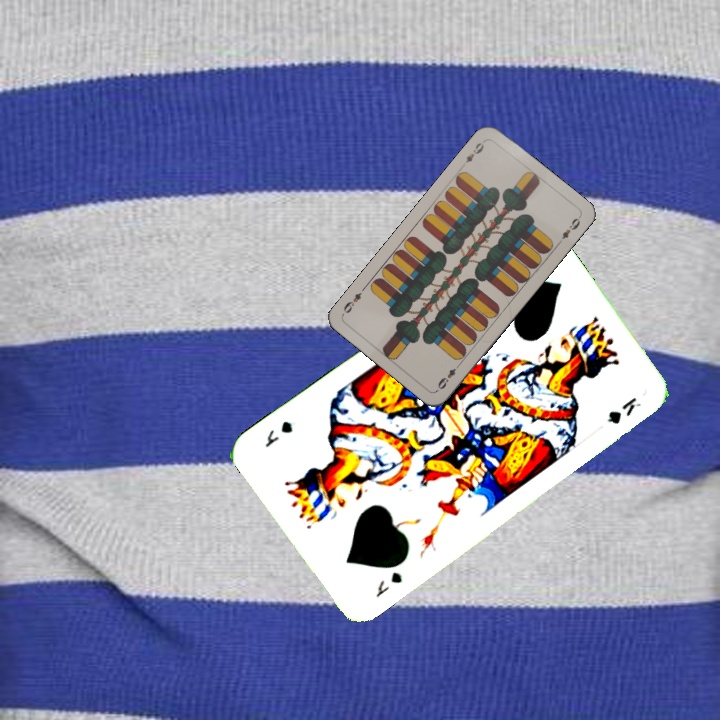E9: (457, 136, 488, 170), (433, 359, 463, 392)
GK: (371, 567, 405, 600)
